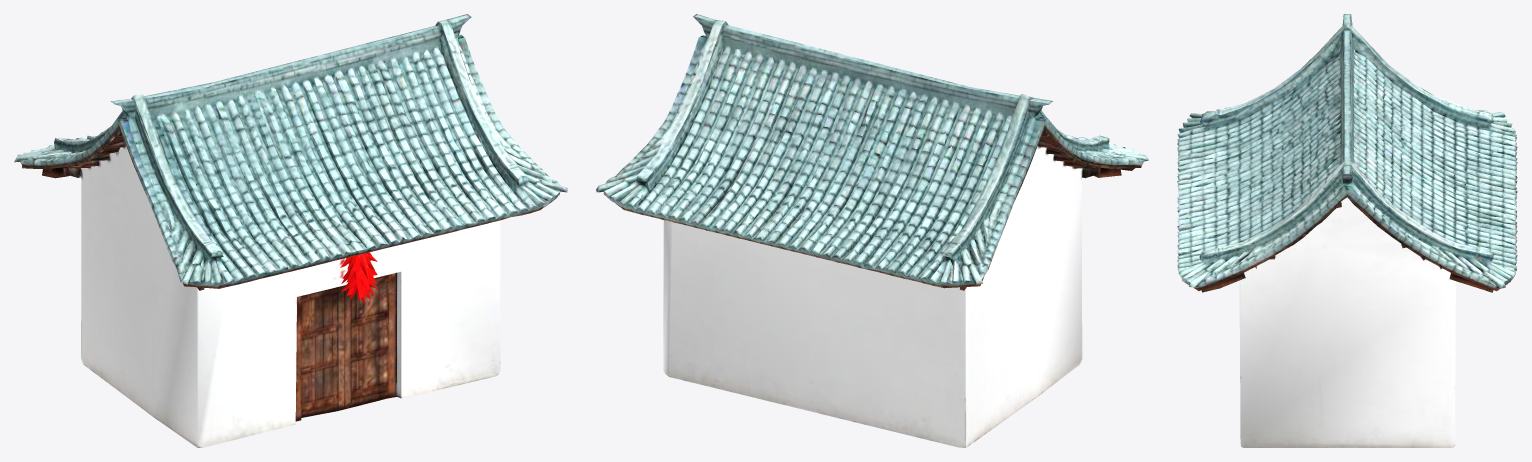
The model's file is qm_house_lo.glb.
3 renders of one model, left to right at view 1: azimuth 30°, elevation 25°; view 2: azimuth 150°, elevation 25°; view 3: azimuth 270°, elevation 25°, orthographic. The views are drawn at different scales.
Visible parts, largest first — view 1: qm_house; view 2: qm_house; view 3: qm_house.
Boxes of the visible parts, x1,y1,x2,y2 form: qm_house: (14, 14, 567, 447); qm_house: (596, 14, 1148, 447); qm_house: (1177, 14, 1517, 447).
Size of the model in its own units: 7.77 by 5.99 by 6.43.
Materials: 1 (1 with a texture image).
